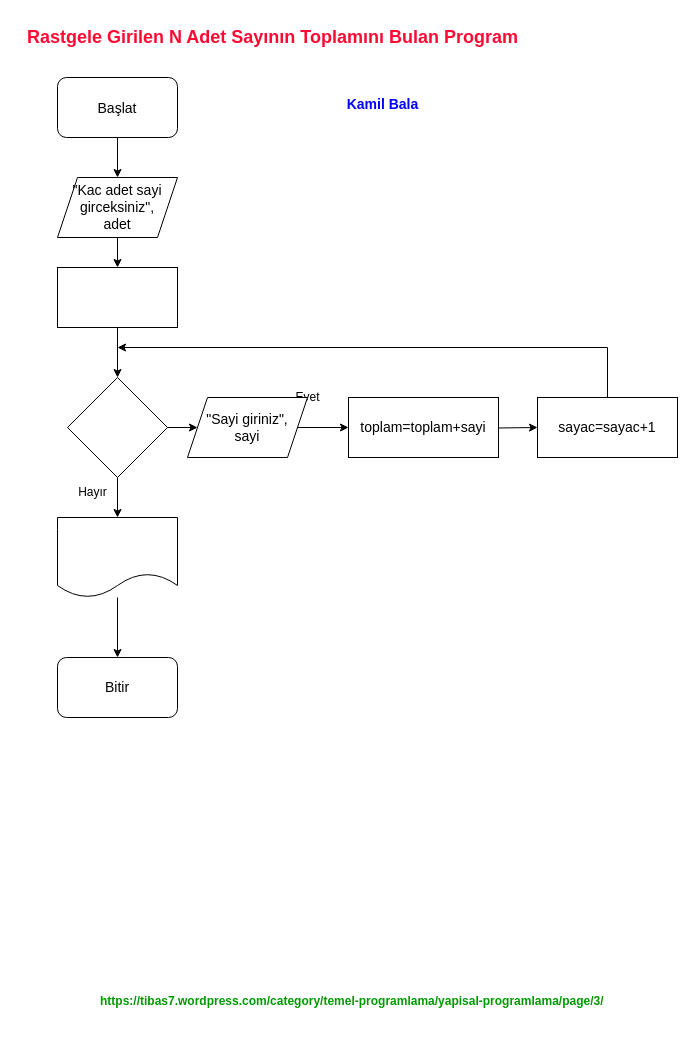
Some shapes in this 695 by 1044 pixel diagram are drawn without their labels. Each missing label, with the box of its shape:
sayac<adet: (66, 376, 168, 478)
toplam=0 sayac=0: (56, 266, 178, 328)
Yaz,toplam: (56, 516, 178, 598)
